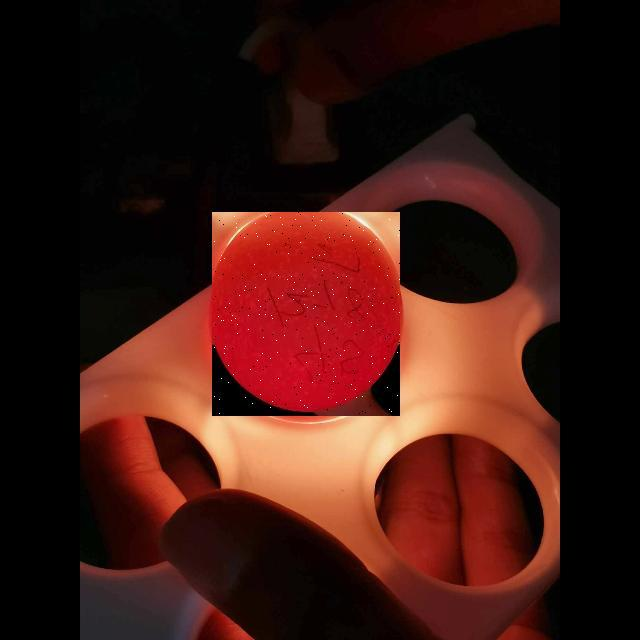Infertile: (212, 212, 400, 416)
